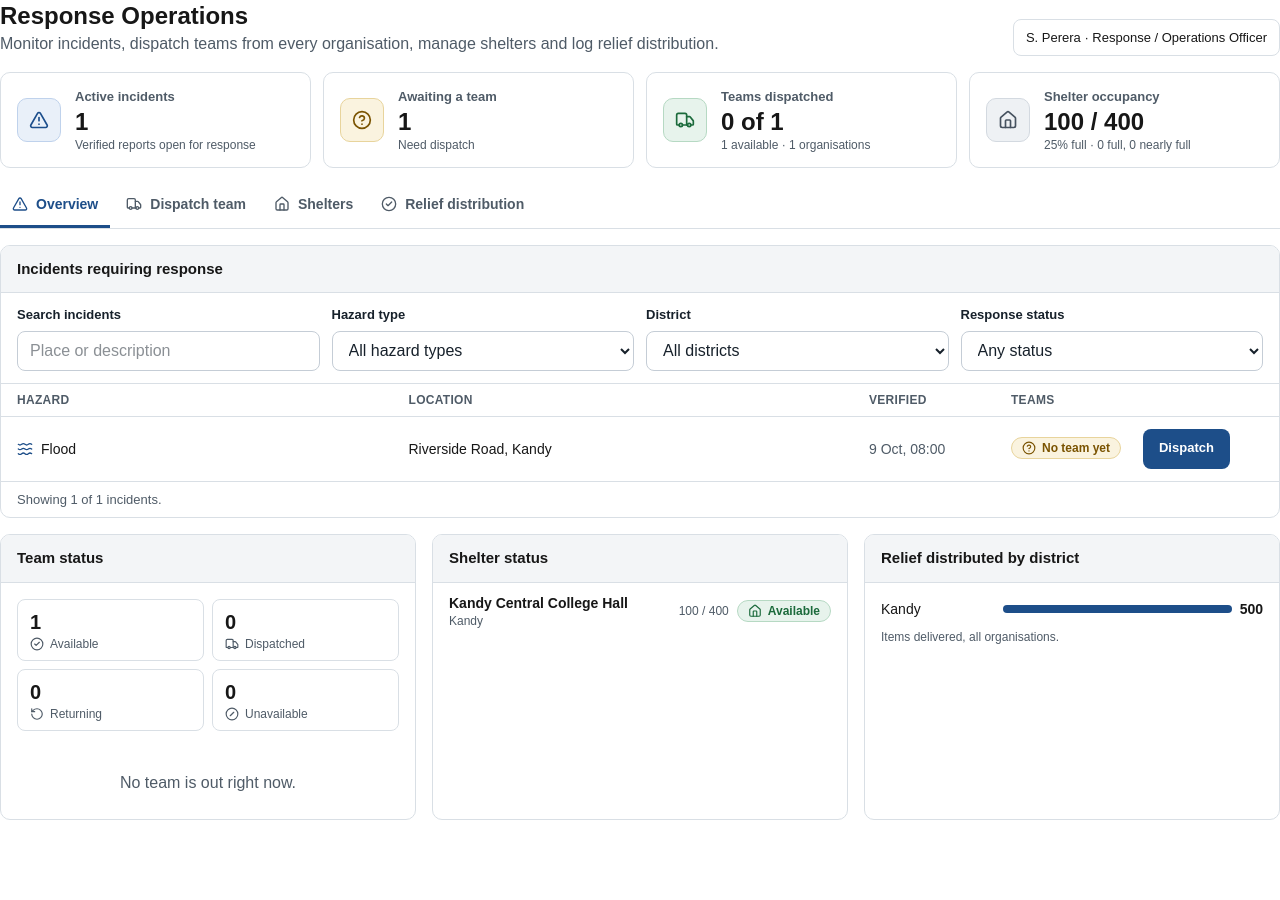
Dispatch Rescue Team › shows the conflict when the team was assigned elsewhere
The width and height of the screenshot is (1280, 900).
Expected: the text "Active incidents" is shown, [75,89,175,104]
Click the tab "Dispatch team".
click(186, 206)  # box [114,184,258,228]
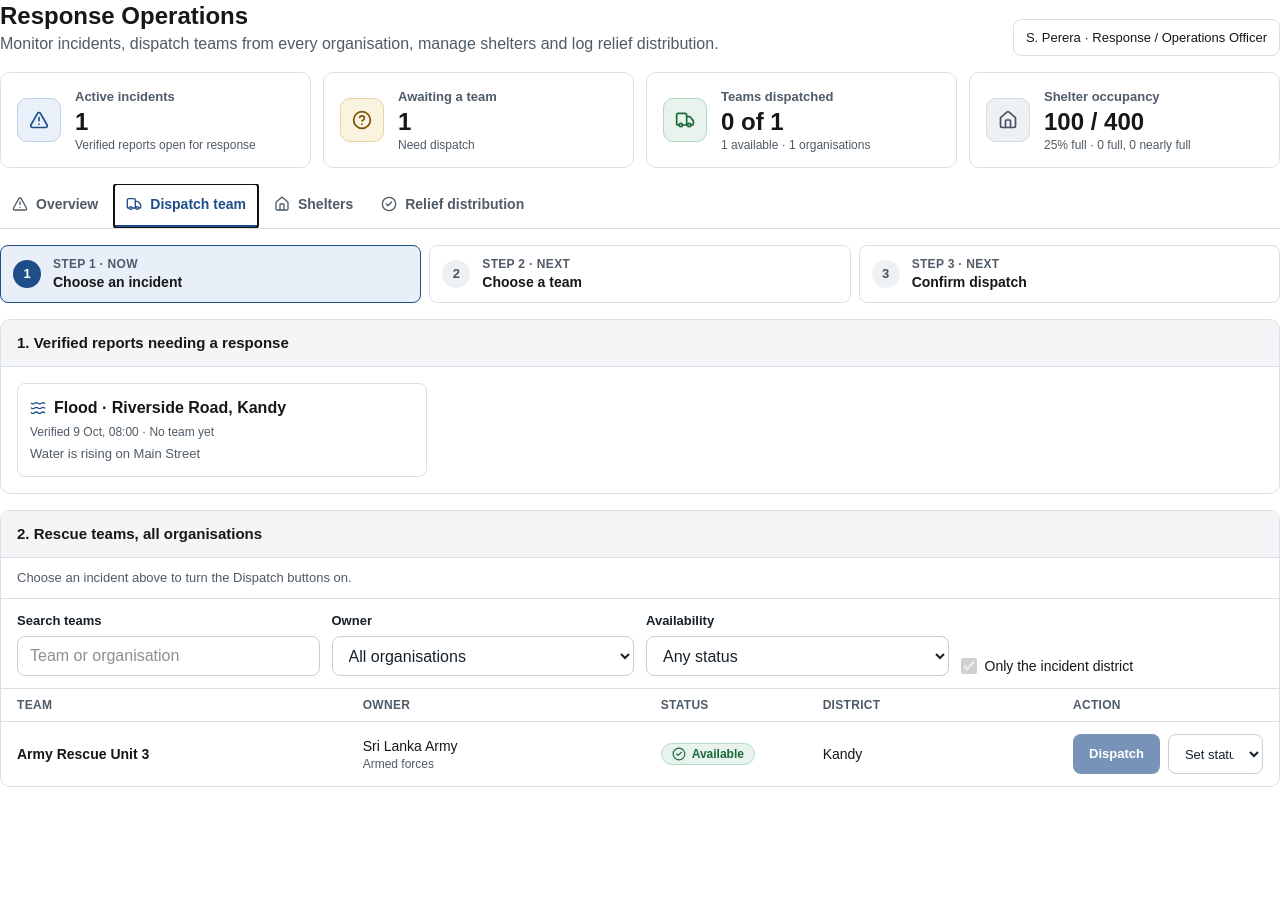
Click the radio button labelled "Flood".
click(76, 408)  # box [17,383,427,476]
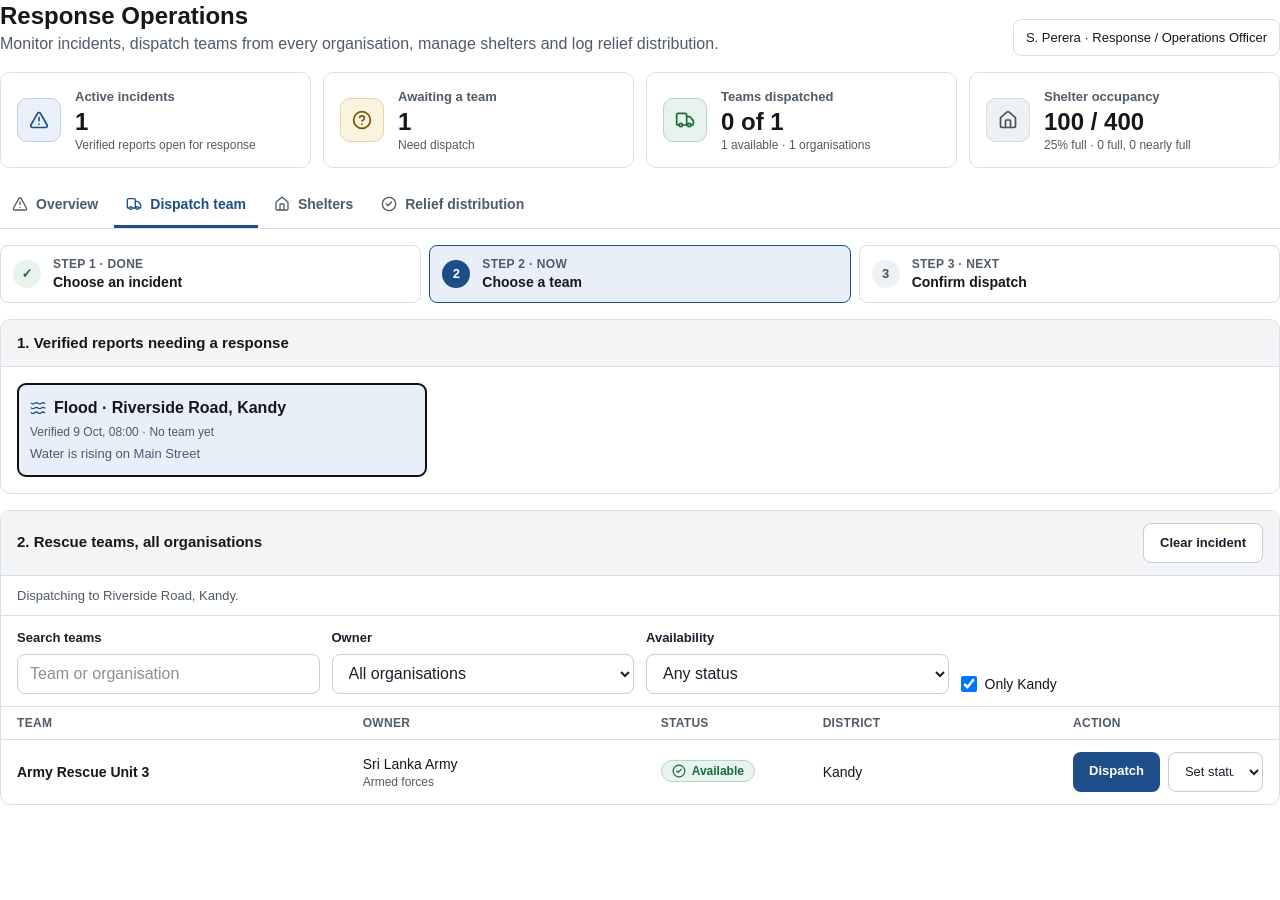
Click the button "Dispatch".
click(1116, 772)  # box [1073,752,1160,792]
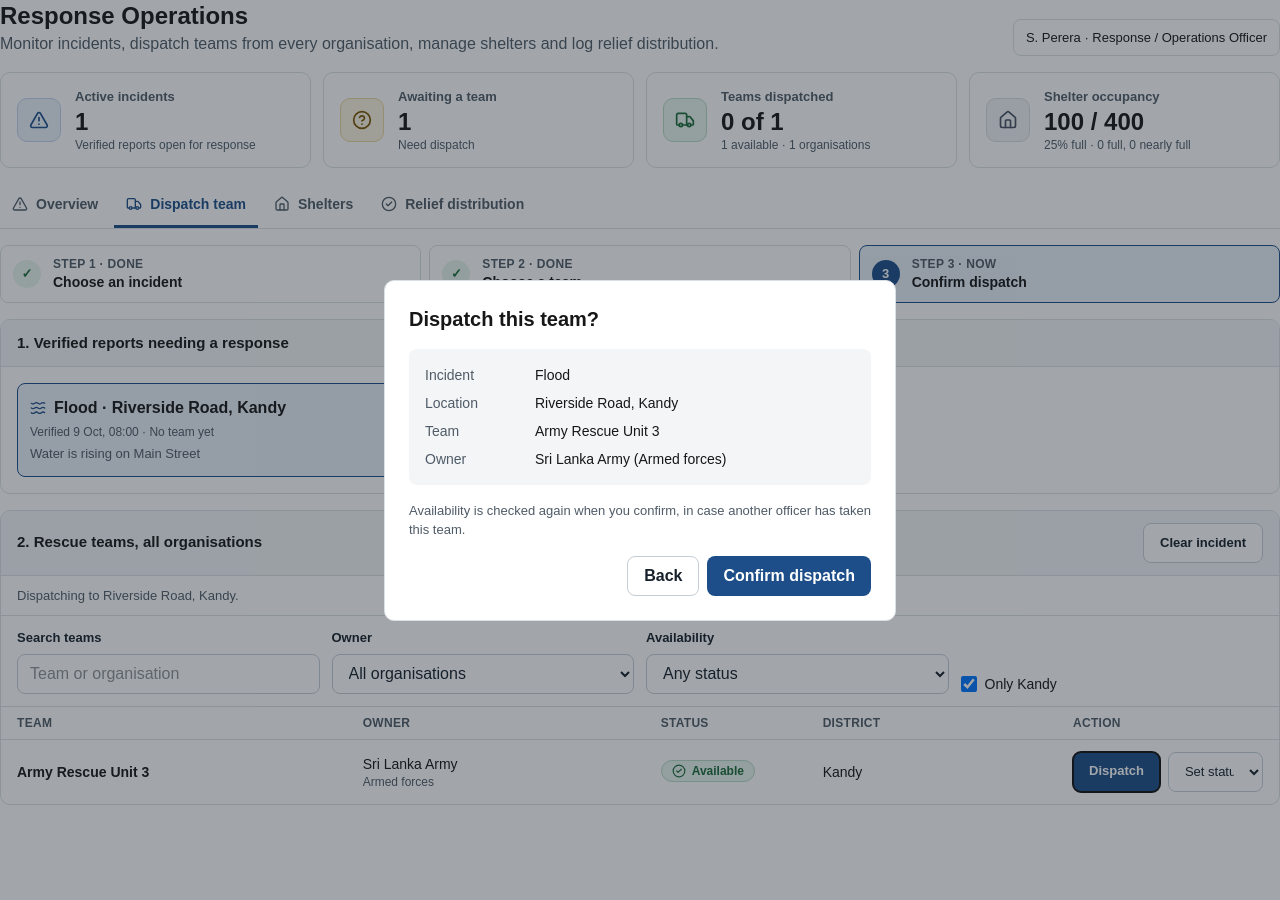
Click the button "Confirm dispatch".
click(789, 576)  # box [707,556,871,596]
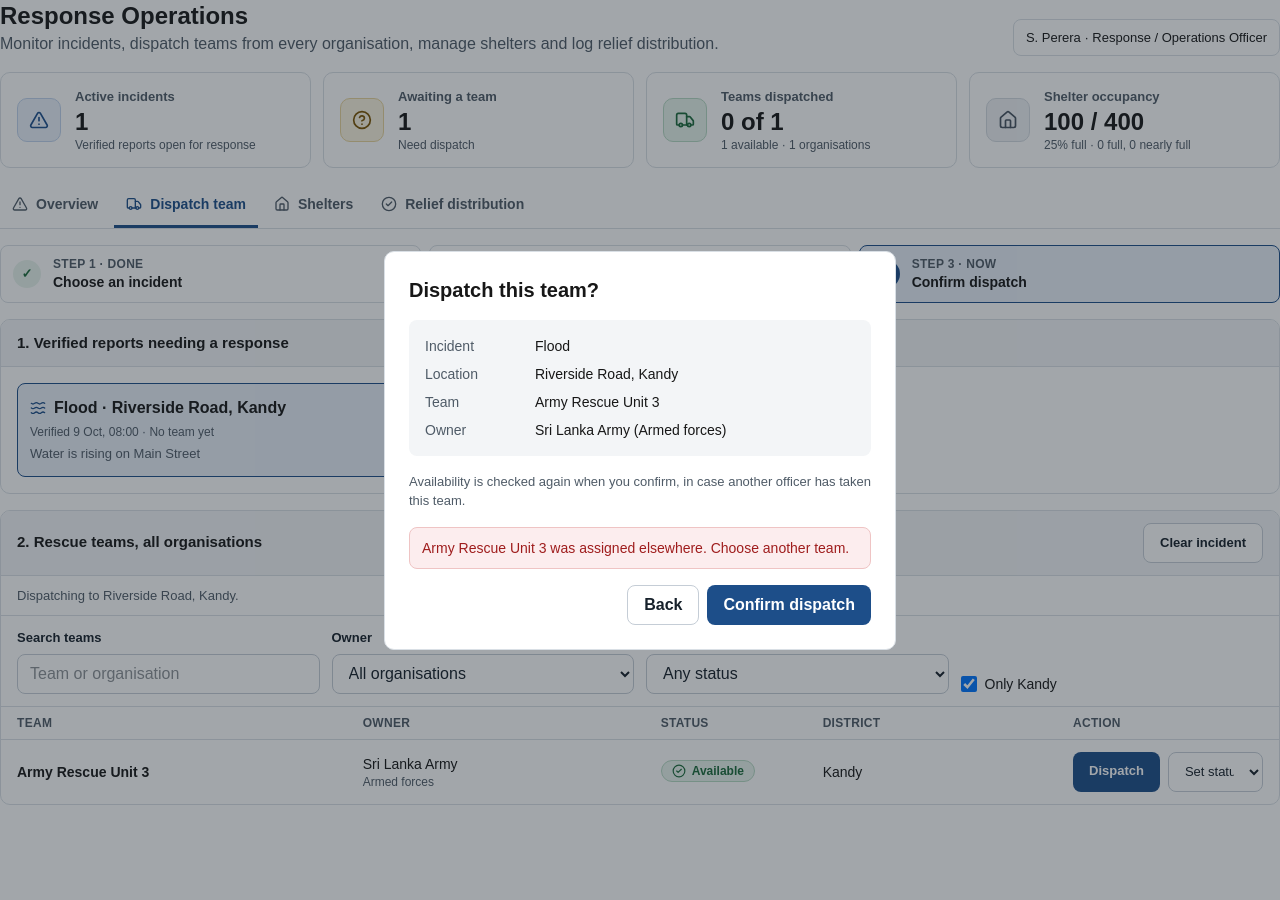
Now the dialog is shown, box [384,250,896,650]
Now the text "assigned elsewhere. Choose another team" is shown, box [422,540,849,556]
